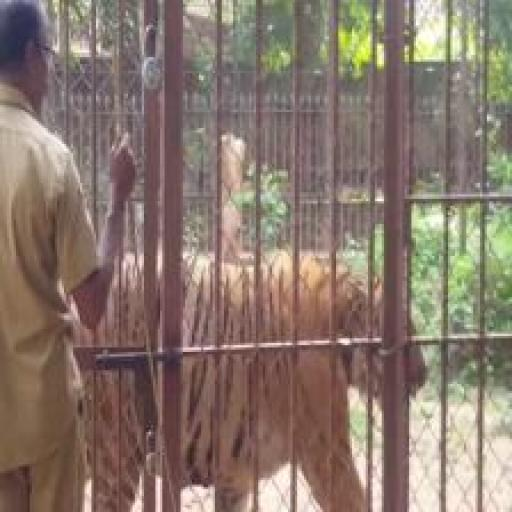Tiger: (121, 247, 430, 511)
